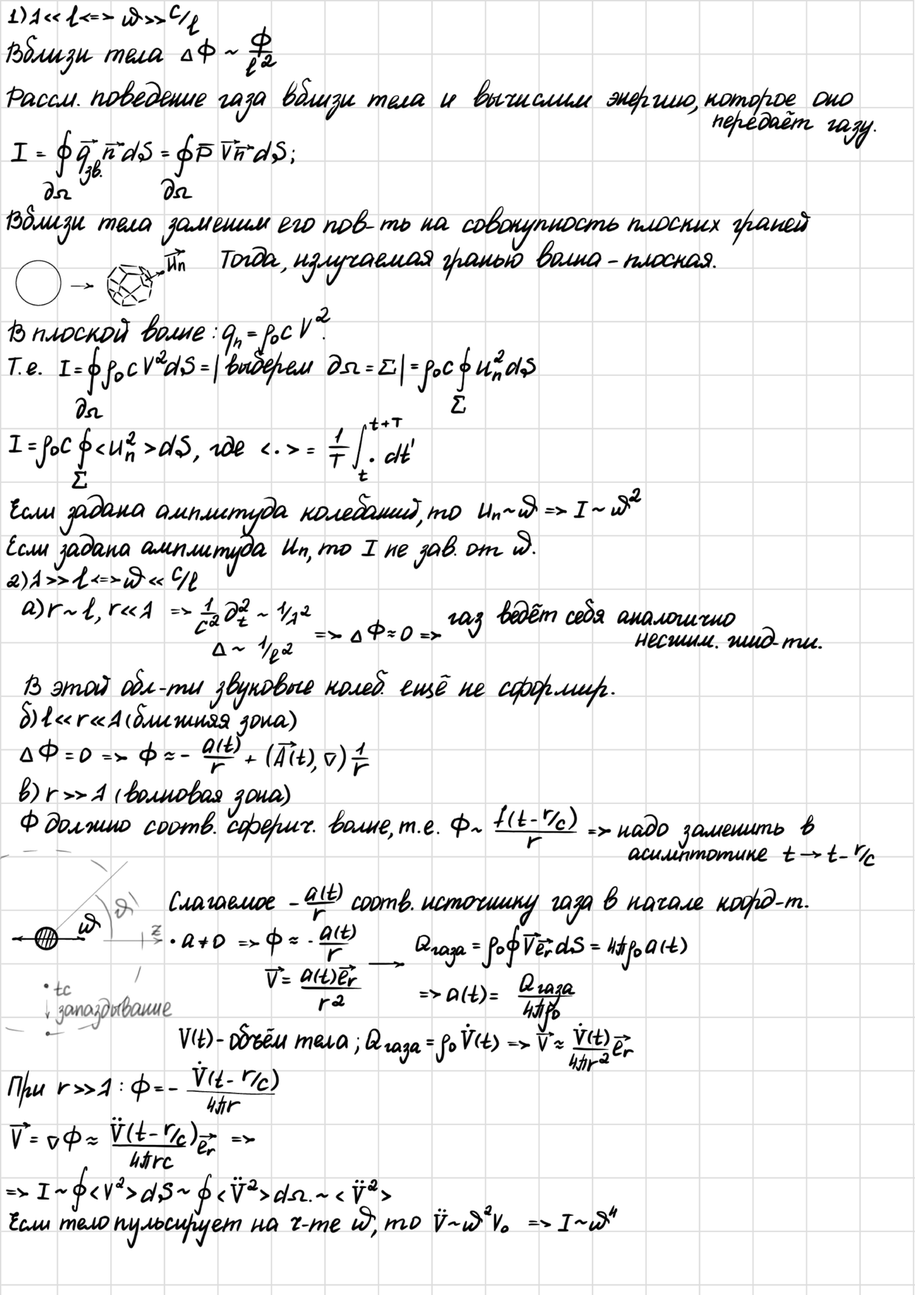formula: (7, 418, 420, 490), (6, 129, 311, 202), (368, 1022, 634, 1082), (17, 735, 377, 778), (5, 1173, 403, 1208), (54, 1059, 285, 1117), (6, 1119, 263, 1171), (413, 925, 690, 970), (58, 349, 210, 420), (409, 343, 545, 417), (10, 599, 311, 632), (432, 1197, 629, 1246), (416, 976, 579, 1024), (449, 804, 613, 851), (476, 487, 648, 529), (171, 925, 365, 961), (8, 566, 205, 596), (259, 964, 365, 1013), (181, 32, 287, 75), (221, 308, 333, 348), (11, 9, 198, 30), (317, 622, 443, 650), (782, 842, 885, 870), (37, 704, 123, 736), (208, 636, 298, 665), (327, 352, 397, 384), (45, 780, 110, 806)
picture: (3, 851, 168, 1041), (14, 248, 192, 308)
text: (7, 77, 854, 109), (7, 209, 809, 240), (170, 887, 811, 913), (220, 246, 718, 276), (24, 675, 618, 698), (8, 500, 462, 524), (9, 1212, 423, 1238), (21, 818, 442, 842), (5, 541, 537, 556), (450, 608, 736, 629), (6, 320, 219, 347), (176, 1024, 357, 1054), (7, 40, 171, 67), (712, 113, 880, 138), (616, 817, 814, 838), (637, 633, 822, 655), (116, 787, 292, 807), (129, 712, 298, 731), (627, 845, 772, 863), (227, 357, 314, 380), (9, 1072, 48, 1100), (6, 356, 45, 380)
